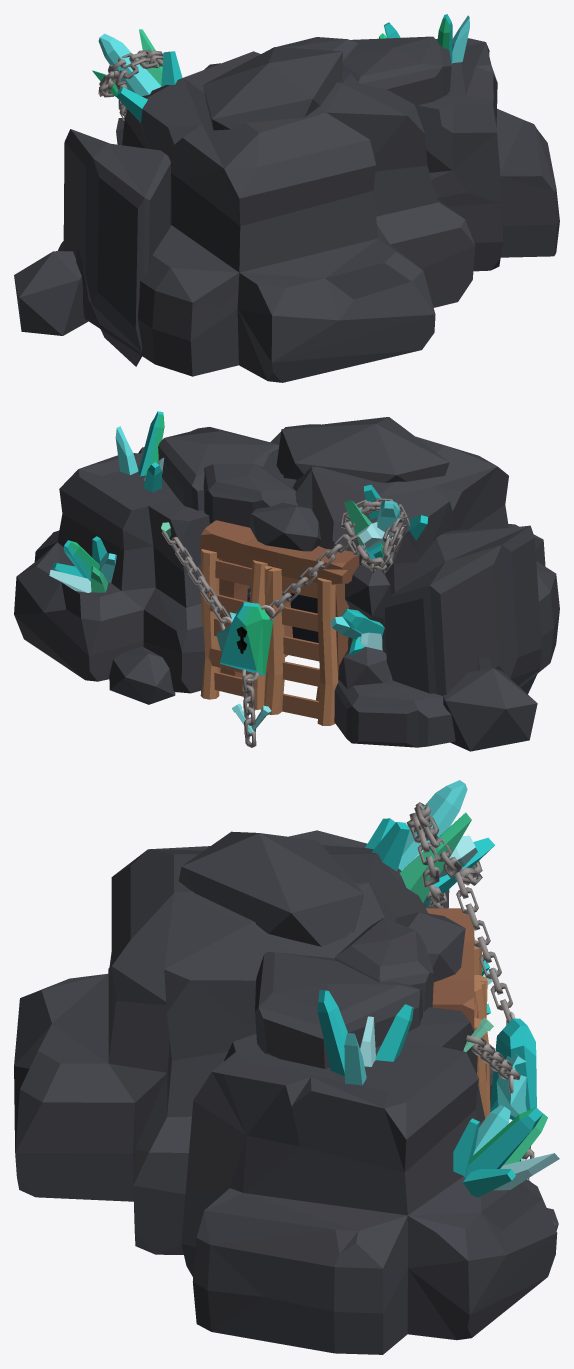
The model's file is antrer_grote.fbx.
3 renders of one model, top to bottom at view 1: azimuth 30°, elevation 25°; view 2: azimuth 150°, elevation 25°; view 3: azimuth 270°, elevation 25°, orthographic. The views are drawn at different scales.
Visible parts, largest first — view 1: grote, cadena; view 2: grote, cadena, porte.003, porte.002; view 3: grote, cadena, porte.002.
Boxes of the visible parts, <box> form: grote: <box>14,14,559,382</box>; cadena: <box>98,49,163,120</box>; grote: <box>14,411,559,751</box>; cadena: <box>161,498,411,747</box>; porte.003: <box>264,566,338,725</box>; porte.002: <box>200,549,267,709</box>; grote: <box>14,780,559,1354</box>; cadena: <box>406,802,536,1181</box>; porte.002: <box>474,981,490,1118</box>.
Bounding box in the file's own units: 796 × 399 × 541.
